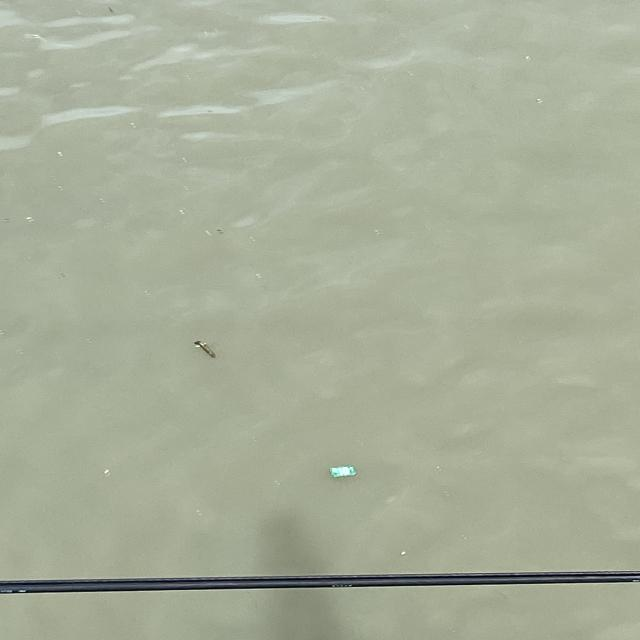Organic Debris: (190, 338, 218, 362)
Plastic: (326, 464, 361, 481)
